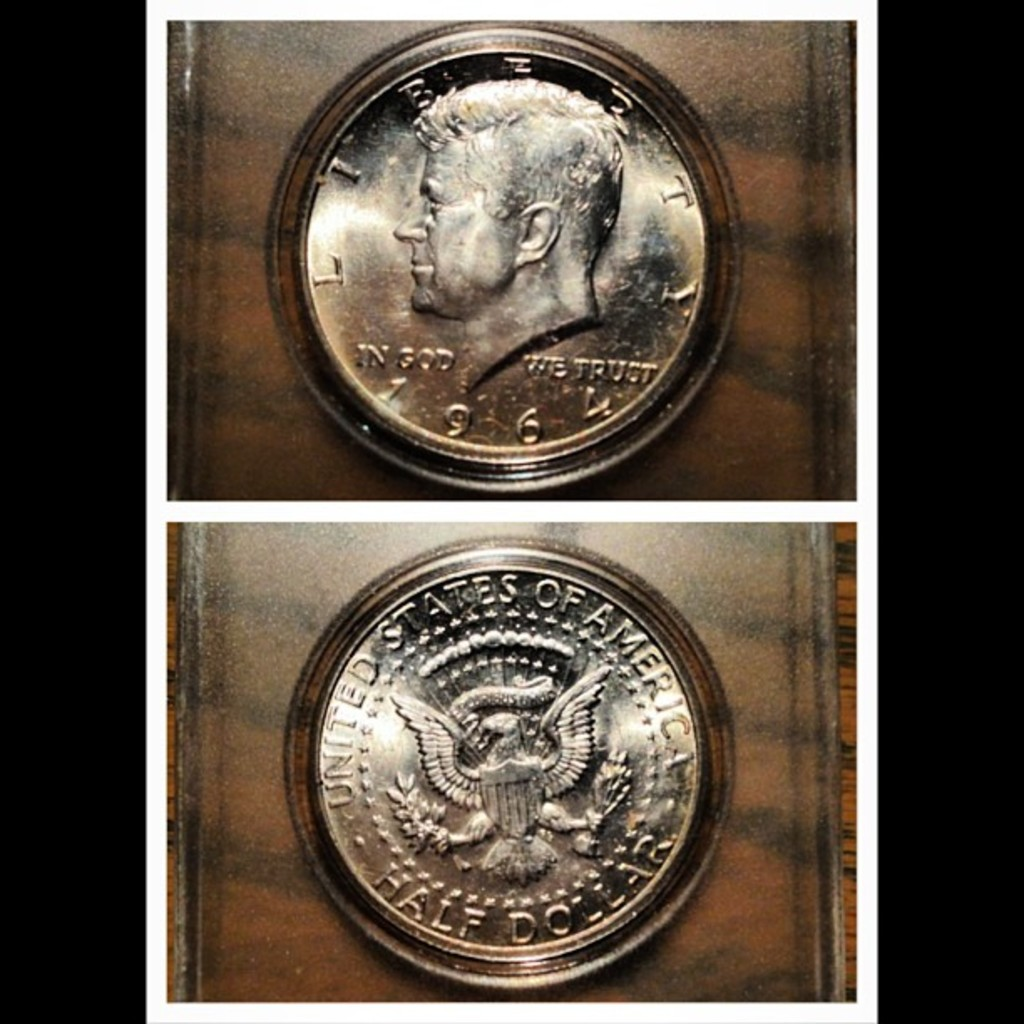Coin: (265, 20, 745, 493), (281, 533, 734, 999)
